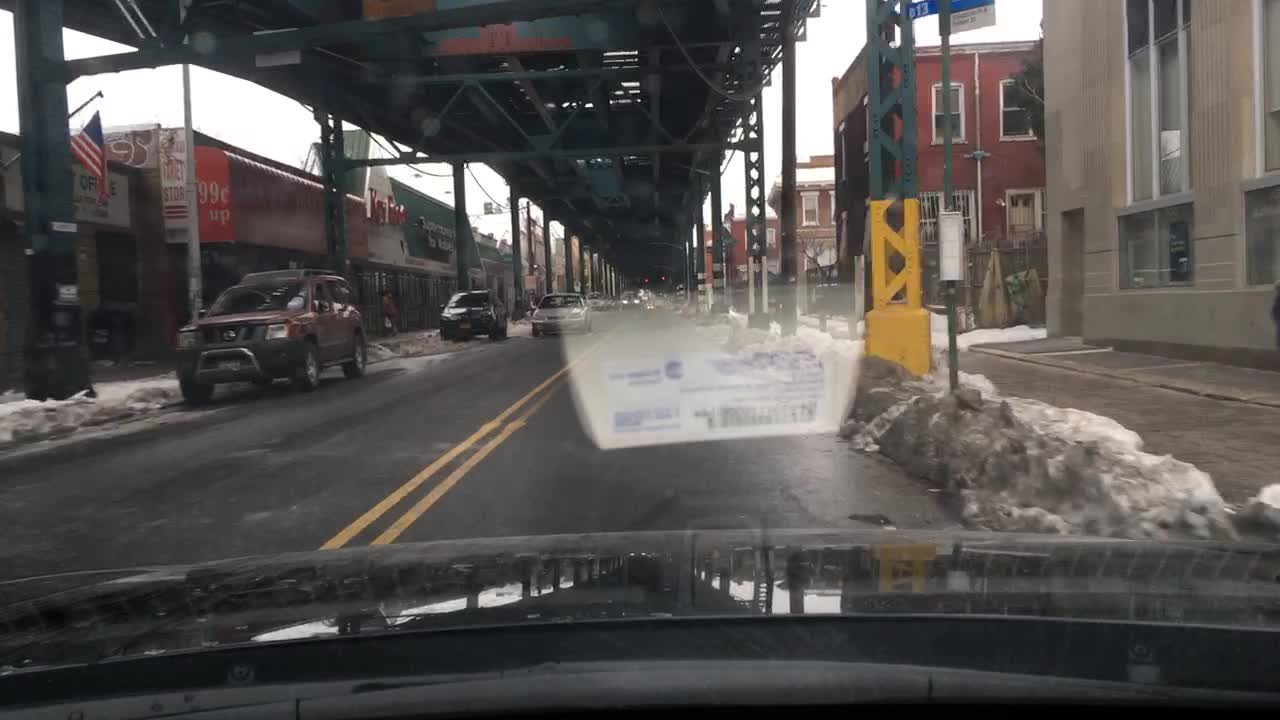car: (174, 265, 367, 403), (436, 288, 507, 340), (530, 293, 591, 336), (620, 290, 643, 309)
person: (380, 288, 401, 336)
